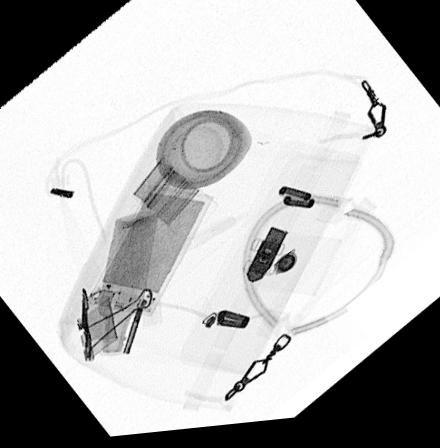Powerbank: (85, 190, 216, 319)
